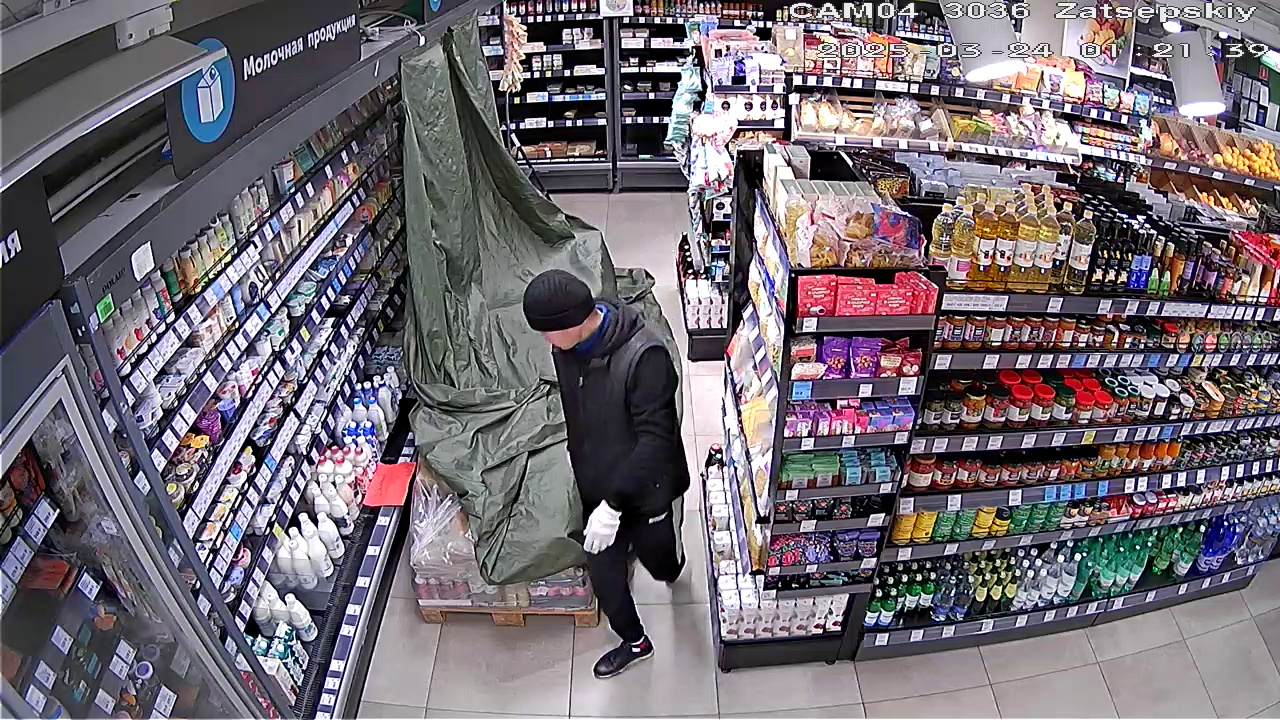Human: (521, 267, 698, 677)
dome: (392, 35, 682, 584)
